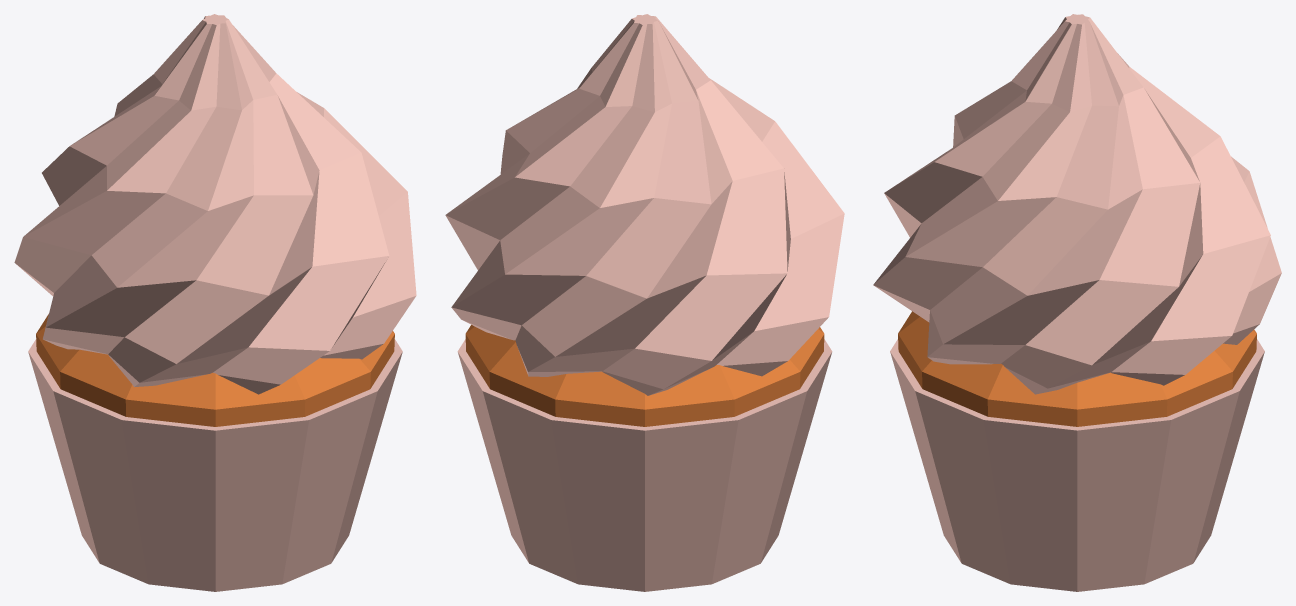
File: CandylandCupcake_03.fbx
3 renders of one model, left to right at view 1: azimuth 30°, elevation 25°; view 2: azimuth 150°, elevation 25°; view 3: azimuth 270°, elevation 25°, orthographic.
Visible parts, largest first — view 1: CandylandCupcake_03; view 2: CandylandCupcake_03; view 3: CandylandCupcake_03.
Boxes of the visible parts, bbox=[...] form: CandylandCupcake_03: bbox=[14, 14, 416, 591]; CandylandCupcake_03: bbox=[445, 14, 844, 591]; CandylandCupcake_03: bbox=[873, 14, 1281, 591].
Size of the model in its own units: 0.4944 by 0.6887 by 0.4944.
